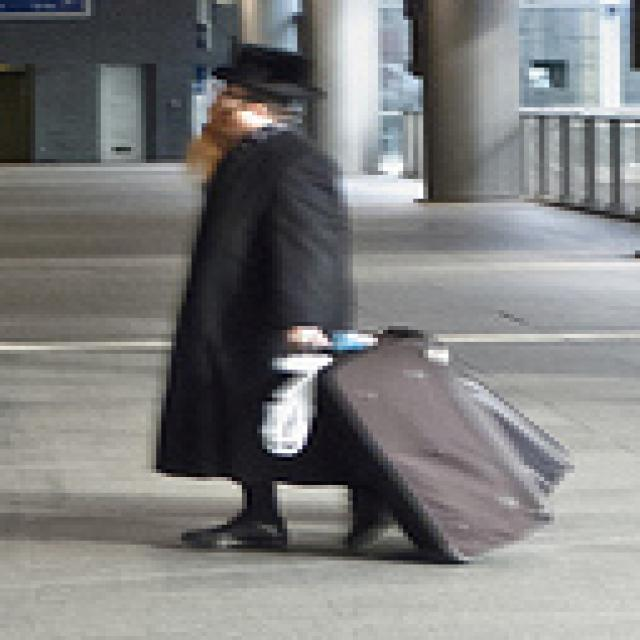standing: (152, 43, 394, 554)
